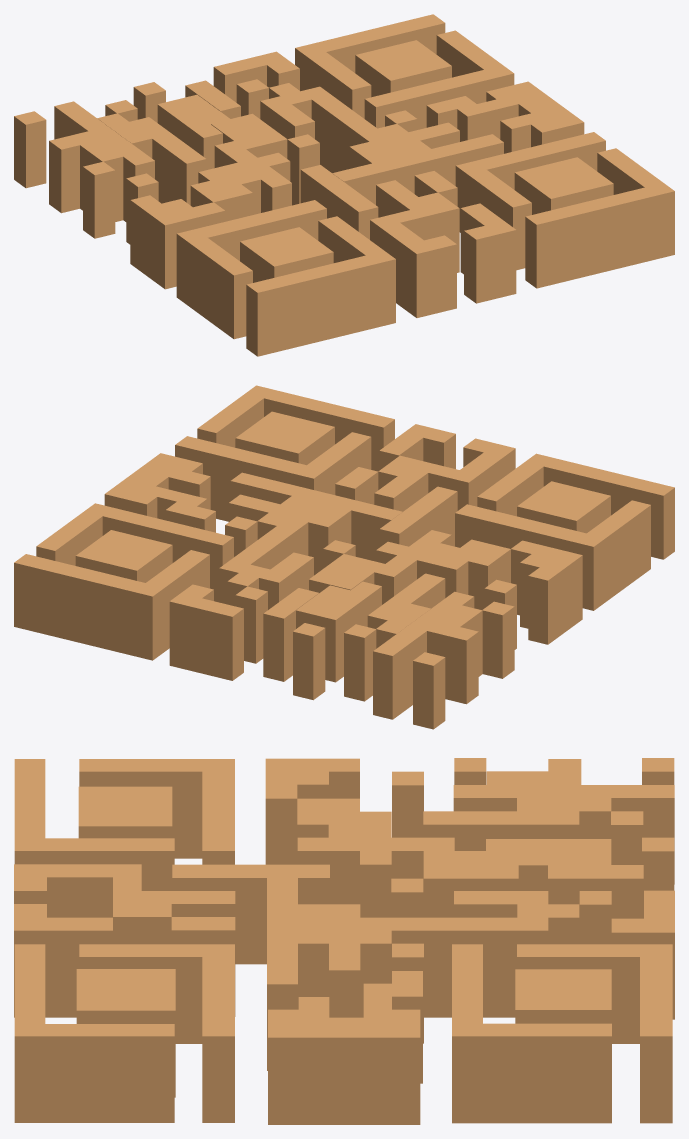
Rendered from QR code.glb.
The picture shows the model from 3 angles, top to bottom: view 1: azimuth 30°, elevation 25°; view 2: azimuth 150°, elevation 25°; view 3: azimuth 270°, elevation 25°; orthographic projection. The views are drawn at different scales.
Visible parts, largest first — view 1: Cube.004, Cube.006, Cube.010, Cube.005, Cube.027, Cube.008, Cube.013, Cube.003, Cube.024, Cube.007, Cube.001, Cube (+13 smaller); view 2: Cube.005, Cube.004, Cube.010, Cube.006, Cube.027, Cube.013, Cube.024, Cube.012, Cube.008, Cube.003, Cube.025, Cube.001 (+15 smaller); view 3: Cube.005, Cube.006, Cube.010, Cube.003, Cube.027, Cube.004, Cube.008, Cube.013, Cube.011, Cube.024, Cube.007, Cube.001 (+15 smaller).
Boxes of the visible parts, x1,y1,x2,y2 form: Cube.004: (176,200,395,356); Cube.006: (455,132,674,288); Cube.010: (260,83,503,204); Cube.005: (295,14,514,129); Cube.027: (97,113,291,221); Cube.008: (370,180,459,317); Cube.013: (49,101,154,221); Cube.003: (426,81,584,153); Cube.024: (130,195,225,289); Cube.007: (460,203,516,303); Cube.001: (514,157,613,214); Cube: (355,40,451,97); Cube.005: (14,503,233,660); Cube.004: (455,453,674,610); Cube.010: (219,472,402,609); Cube.006: (175,385,394,521); Cube.027: (367,530,510,648); Cube.013: (373,591,482,719); Cube.024: (511,540,582,644); Cube.012: (169,584,243,680); Cube.008: (374,438,515,511); Cube.003: (104,453,215,532); Cube.025: (296,581,381,682); Cube.001: (235,411,334,465); Cube.005: (452,944,672,1123); Cube.006: (14,944,234,1122); Cube.010: (267,877,579,1070); Cube.003: (268,971,422,1124); Cube.027: (297,797,611,917); Cube.004: (14,759,234,890); Cube.008: (14,864,235,944); Cube.013: (453,759,674,884); Cube.011: (172,864,329,964); Cube.024: (265,758,359,864); Cube.007: (14,904,112,1017); Cube.001: (76,969,175,1097).
Bounding box in the file's own units: 3.9 × 0.5678 × 3.89.
